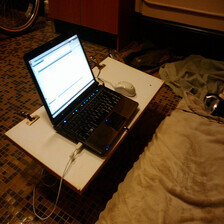laptop: (6, 26, 137, 156)
